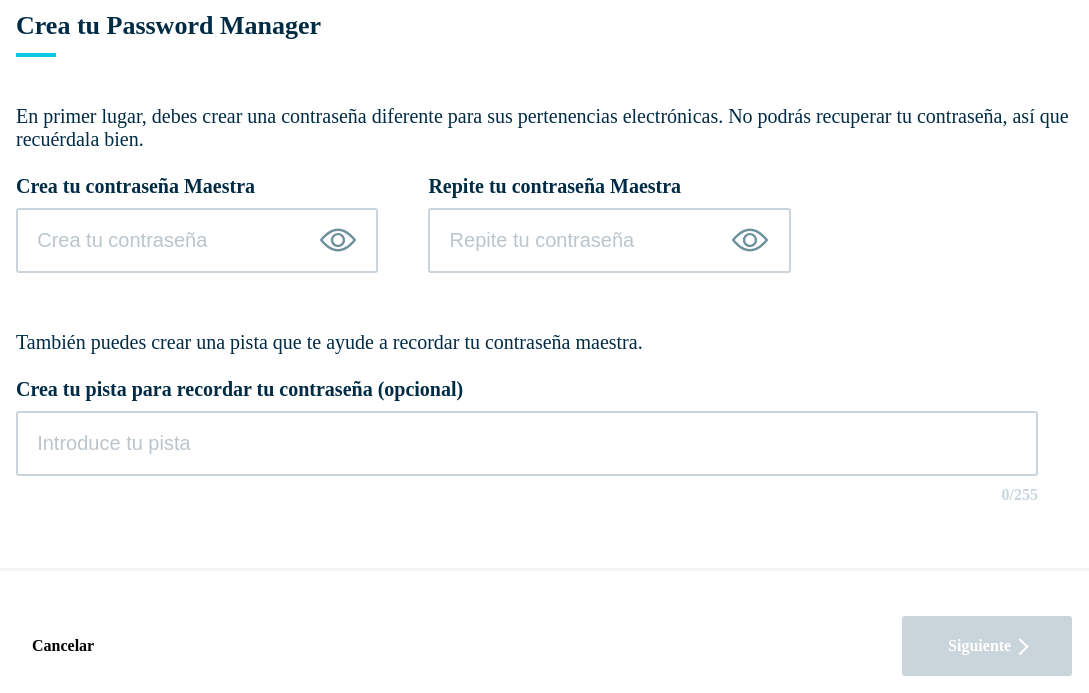
Password management form › Should render continue button enable when password is valid
In the password field labelled "Crea tu contraseña Maestra": x=197, y=240 [16,208,378,273], type "Abcdef1"
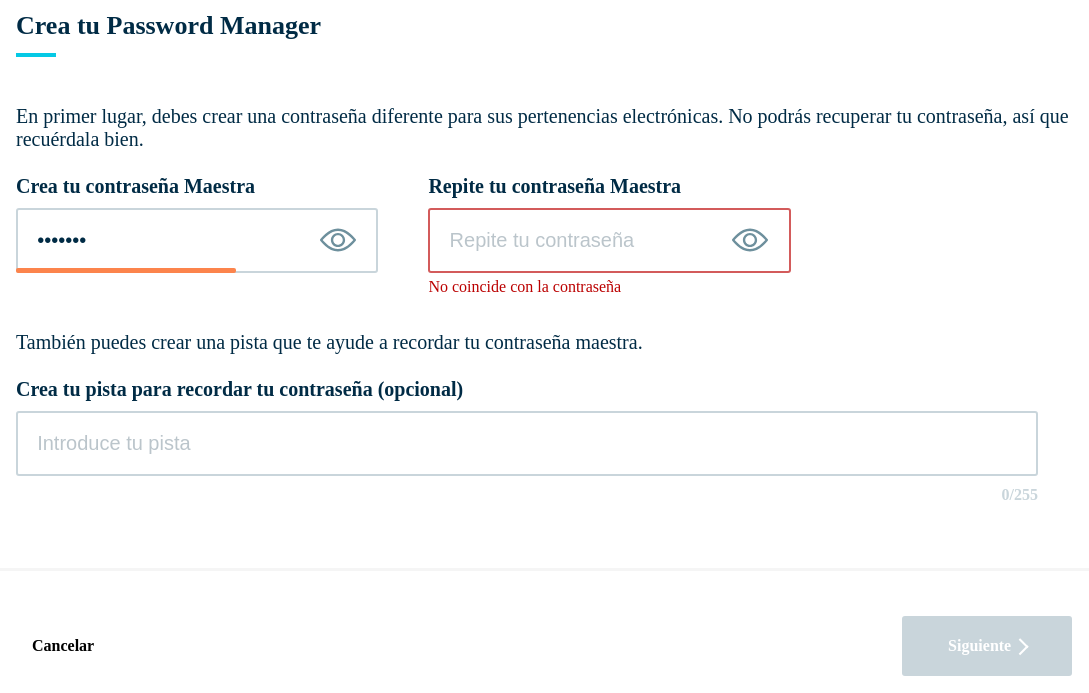
In the password field labelled "Repite tu contraseña Maestra": x=610, y=240 [428,208,791,273], type "Abcdef1"
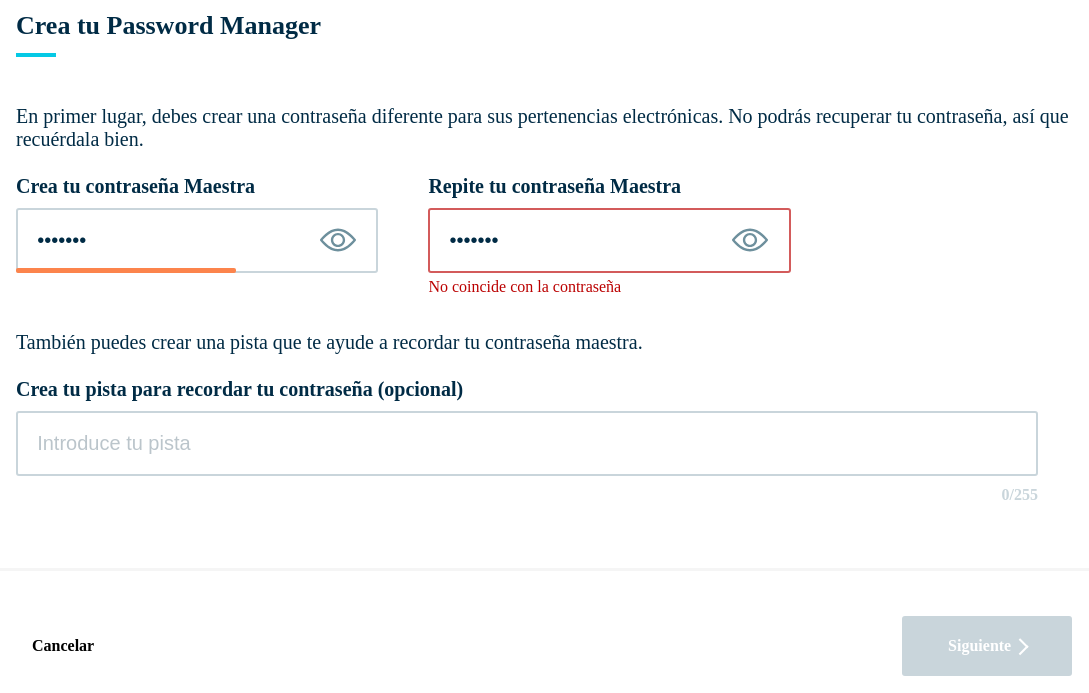
Leave the password field labelled "Repite tu contraseña Maestra", box [428,208,791,273]
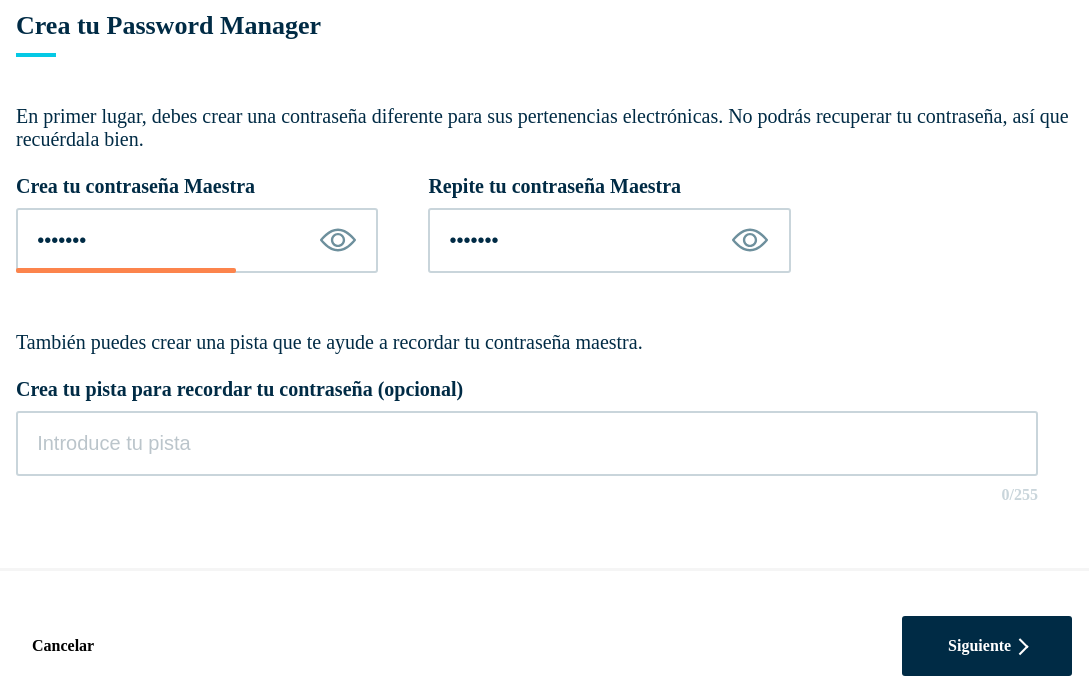
Now the button "Siguiente" is enabled, box [902,616,1072,676]
